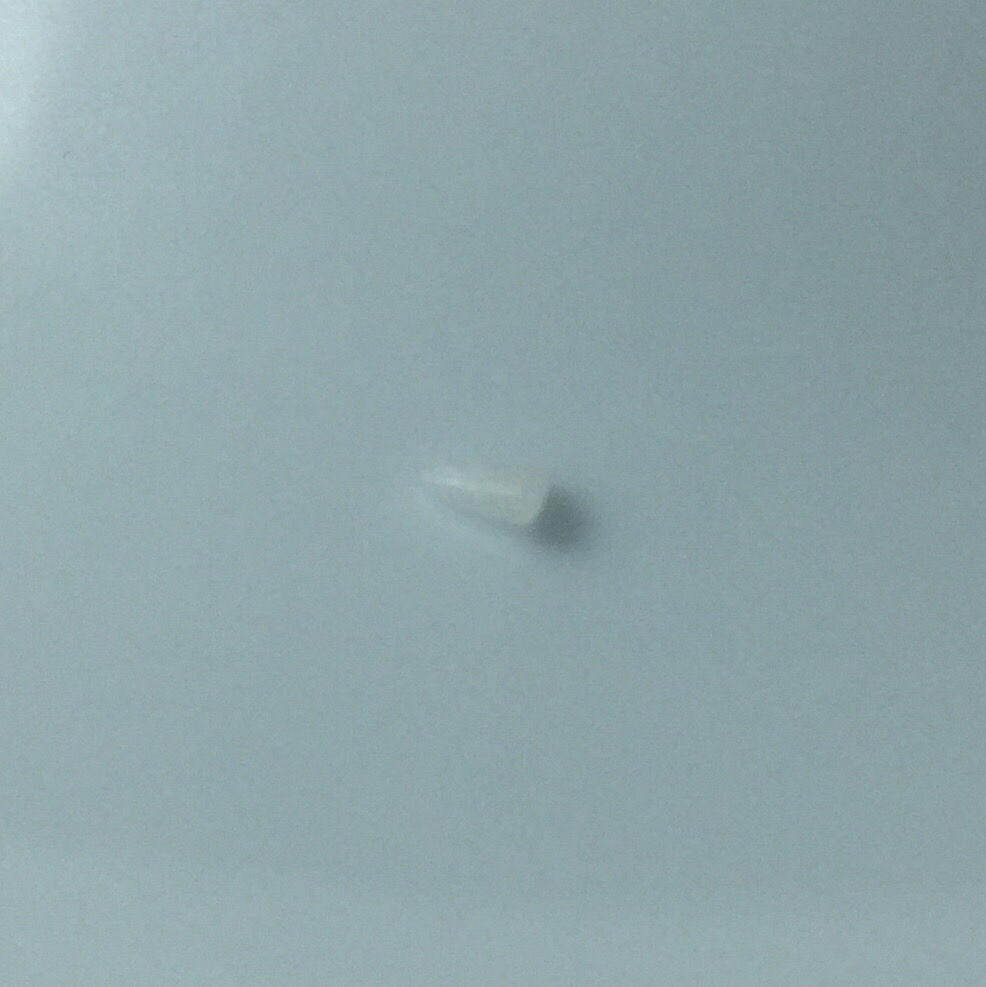Gao Tam: (393, 437, 559, 537)
